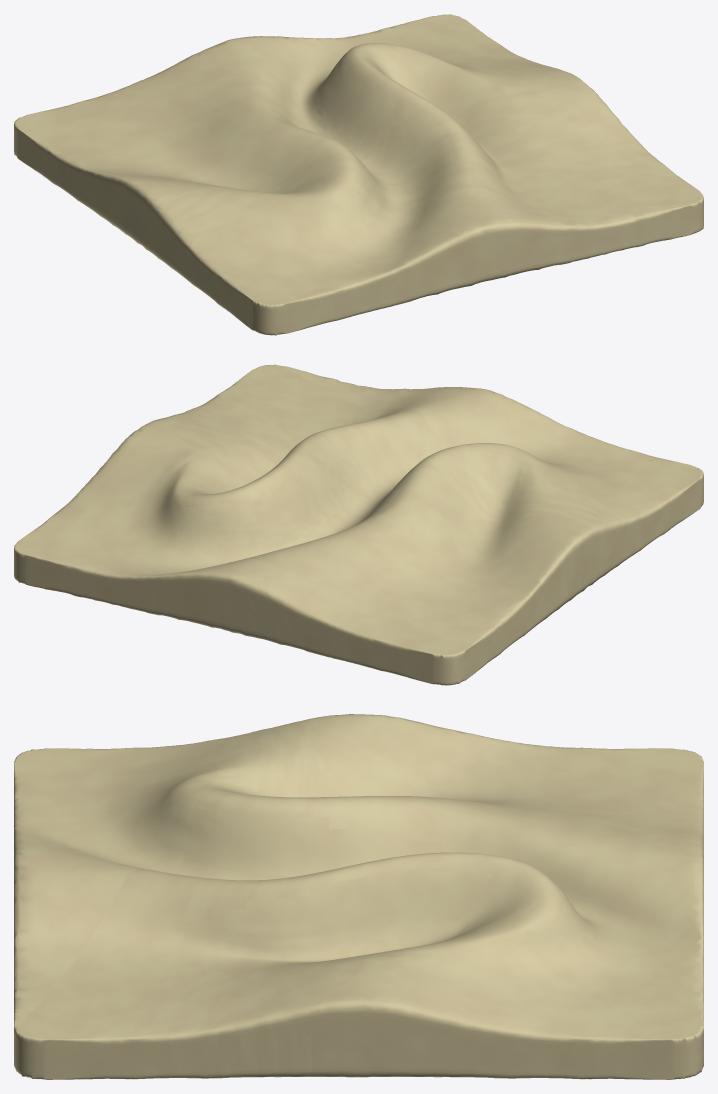
The model's file is acoustic_tile_final.glb.
3 views of the same model, one above another, from view 1: azimuth 30°, elevation 25°; view 2: azimuth 150°, elevation 25°; view 3: azimuth 270°, elevation 25° (orthographic). The views are drawn at different scales.
Parts seen in each view (by area): view 1: Object_1; view 2: Object_1; view 3: Object_1.
Part boxes in pixels (left/top/right/bottom): Object_1: left=14, top=14, right=703, bottom=335; Object_1: left=14, top=364, right=703, bottom=685; Object_1: left=14, top=714, right=703, bottom=1079.
Bounding box in the file's own units: 0.45 × 0.0803 × 0.45.
Materials: 1 (1 with a texture image).
